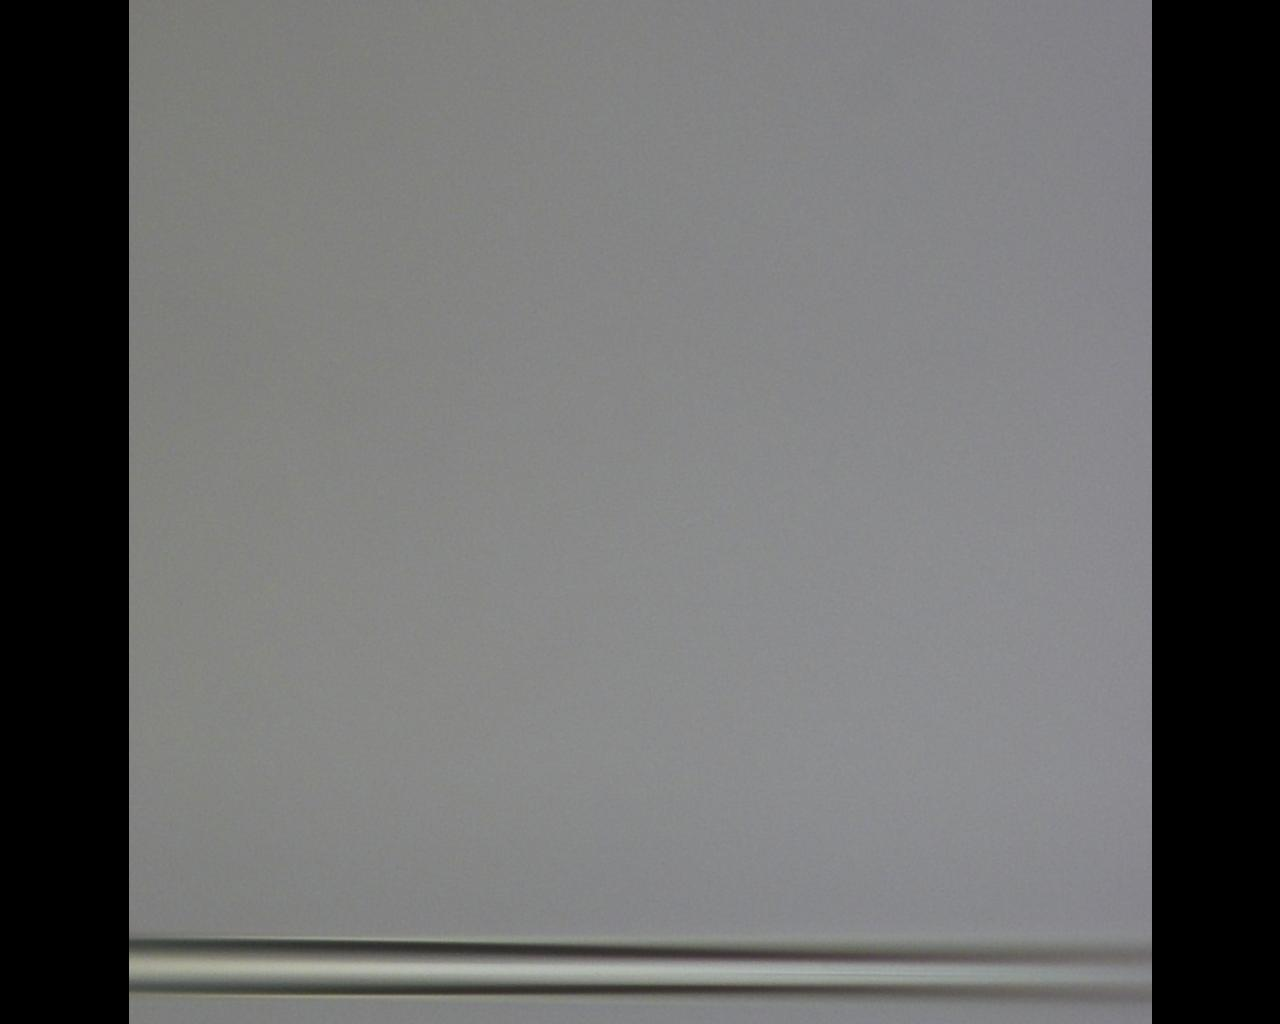fiber: (451, 0, 707, 1024)
